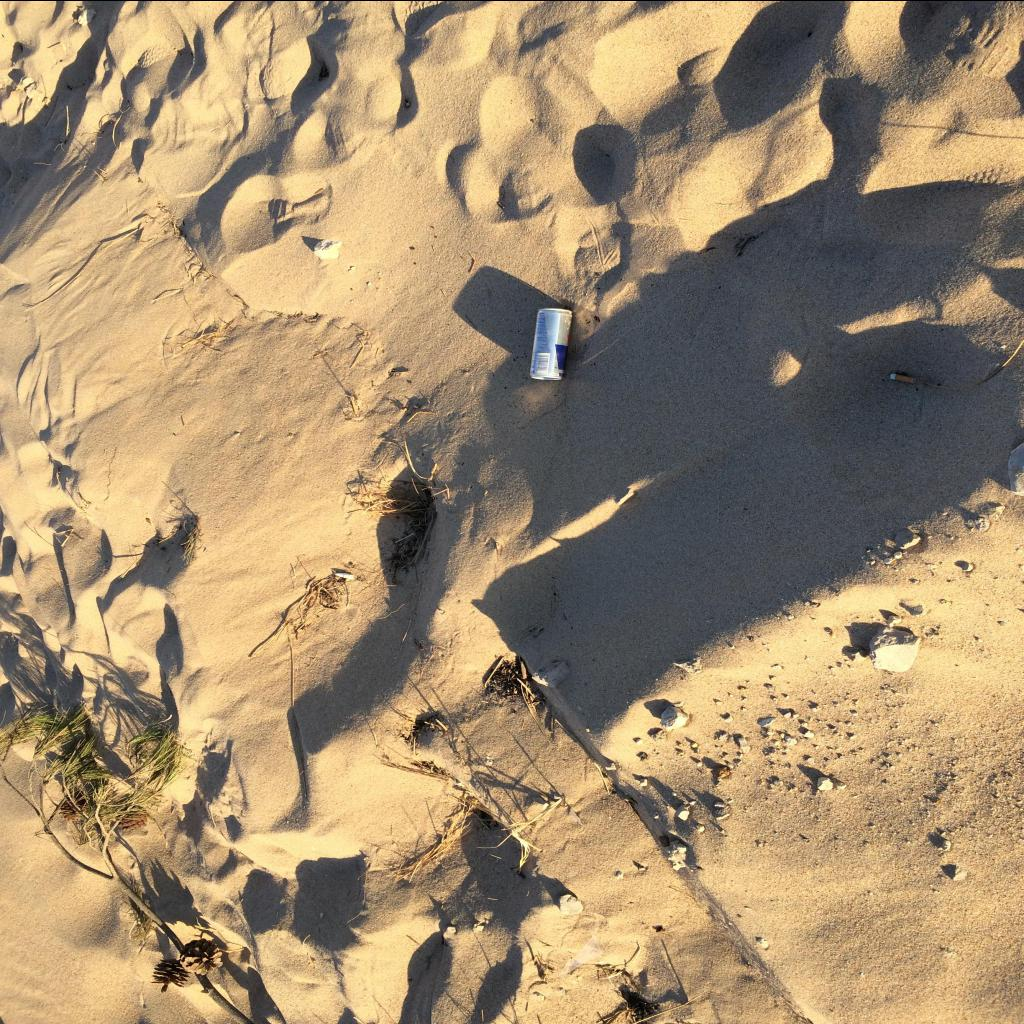Cigarette: (890, 372, 914, 382), (335, 572, 353, 578)
Drink can: (530, 307, 572, 379)
